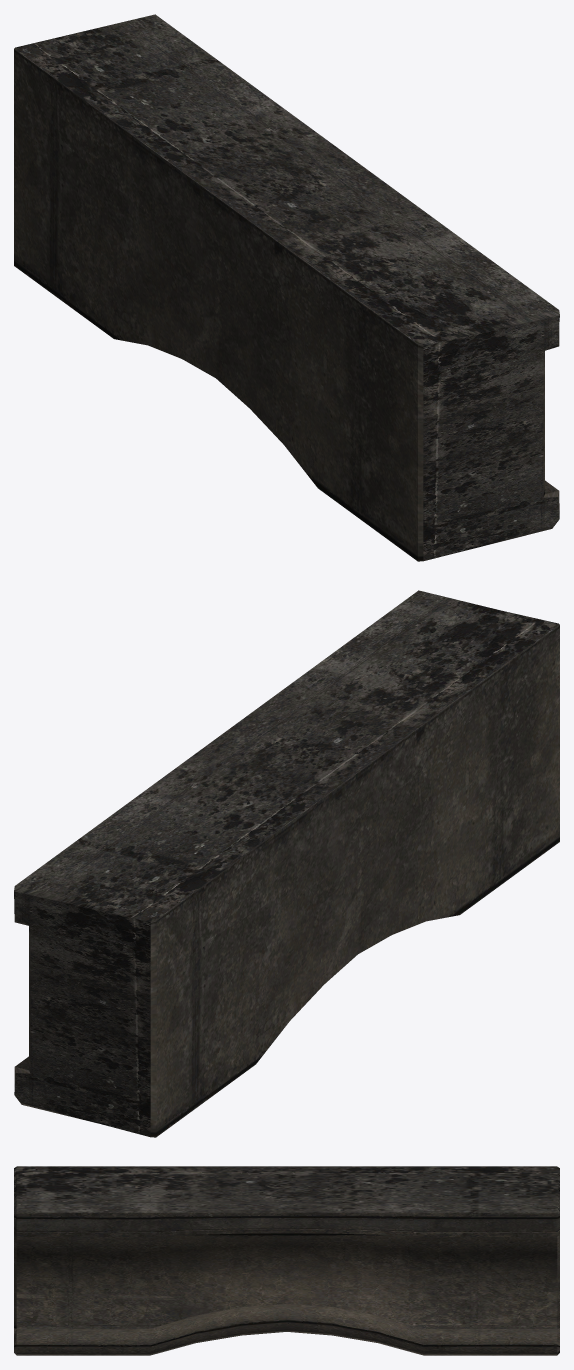
Rendered from pillar_high_arch.DAE.
3 views of the same model, one above another, from view 1: azimuth 30°, elevation 25°; view 2: azimuth 150°, elevation 25°; view 3: azimuth 270°, elevation 25° (orthographic). The views are drawn at different scales.
Visible parts, largest first — view 1: high_pillar_arch; view 2: high_pillar_arch; view 3: high_pillar_arch.
Boxes of the visible parts, x1=… form: high_pillar_arch: x1=14, y1=14, x2=559, y2=561; high_pillar_arch: x1=14, y1=590, x2=559, y2=1137; high_pillar_arch: x1=14, y1=1166, x2=559, y2=1355.
Bounding box in the file's own units: 0.4 × 2 × 0.5869.
